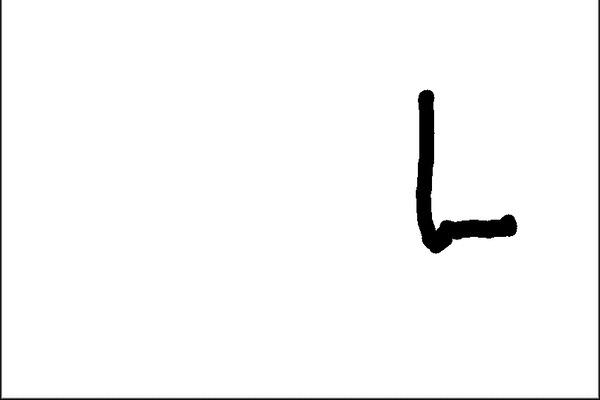L: (408, 80, 521, 258)
